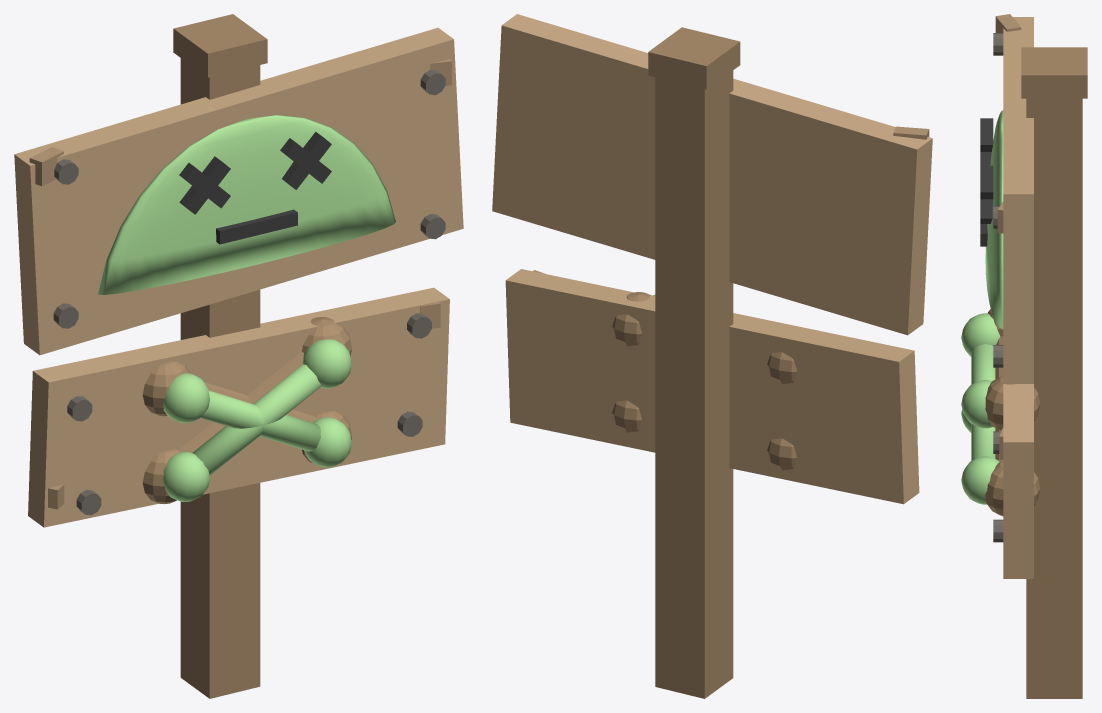
File: Prop_WarningSign_Slime.glb
3 renders of one model, left to right at view 1: azimuth 30°, elevation 25°; view 2: azimuth 150°, elevation 25°; view 3: azimuth 270°, elevation 25°, orthographic. The views are drawn at different scales.
Visible parts, largest first — view 1: _EXPORT_S1; view 2: _EXPORT_S1; view 3: _EXPORT_S1.
Part boxes in pixels (<box>): _EXPORT_S1: <box>14,14,463,698</box>; _EXPORT_S1: <box>492,14,932,698</box>; _EXPORT_S1: <box>961,14,1087,698</box>.
Bounding box in the file's own units: 1.89 × 2.7 × 0.495.
